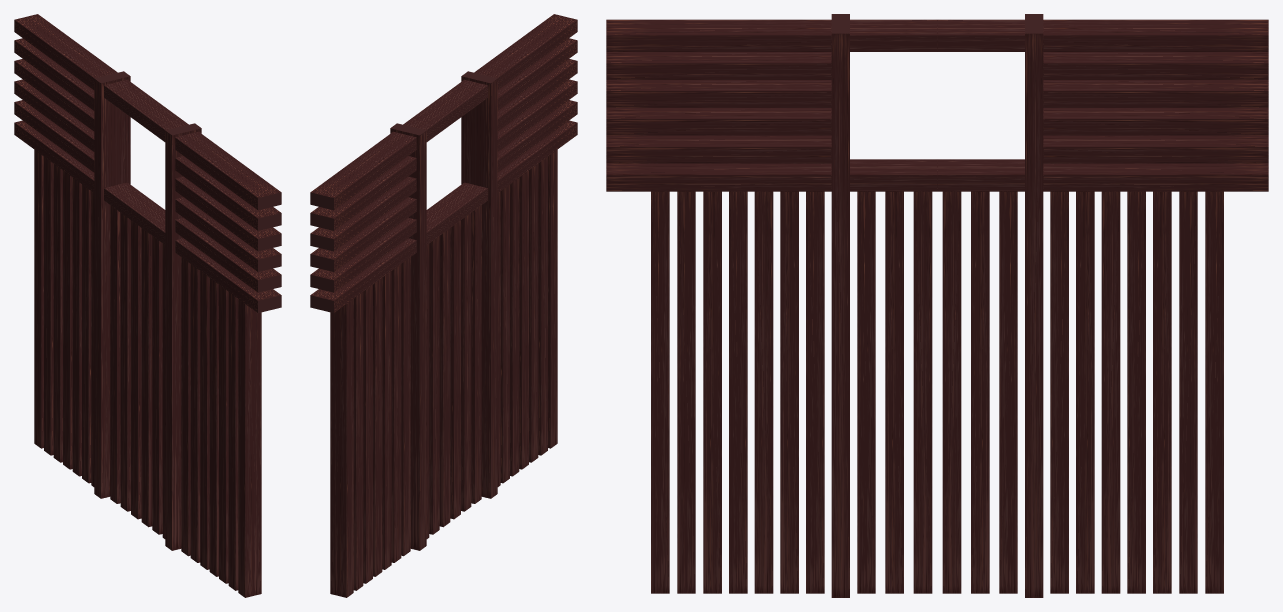
The model's file is fence-simple.fbx.
The picture shows the model from 3 angles, left to right: view 1: azimuth 30°, elevation 25°; view 2: azimuth 150°, elevation 25°; view 3: azimuth 270°, elevation 25°; orthographic projection. The views are drawn at different scales.
Visible parts, largest first — view 1: Box009; view 2: Box009; view 3: Box009.
Boxes of the visible parts, x1,y1,x2,y2 form: Box009: (14, 14, 281, 597); Box009: (310, 14, 577, 597); Box009: (606, 14, 1268, 597).
Bounding box in the file's own units: 4.96 × 66.47 × 70.68.
